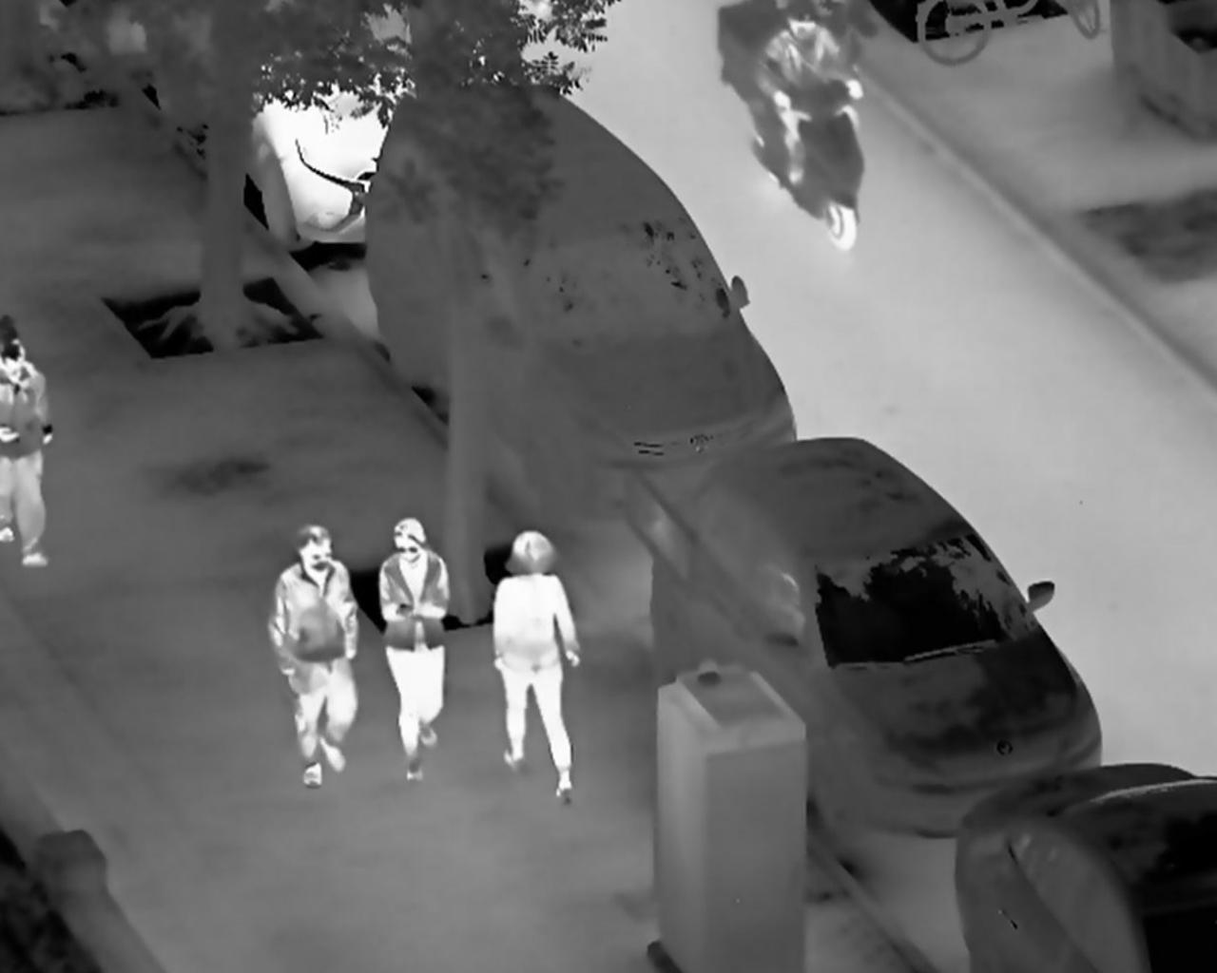person: (491, 530, 582, 805), (267, 524, 360, 789), (750, 4, 864, 185), (378, 518, 453, 788)
